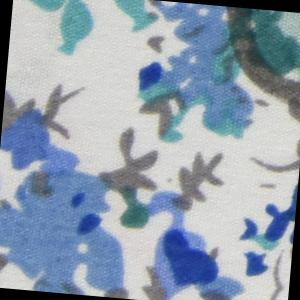Stain: (210, 6, 300, 114)
